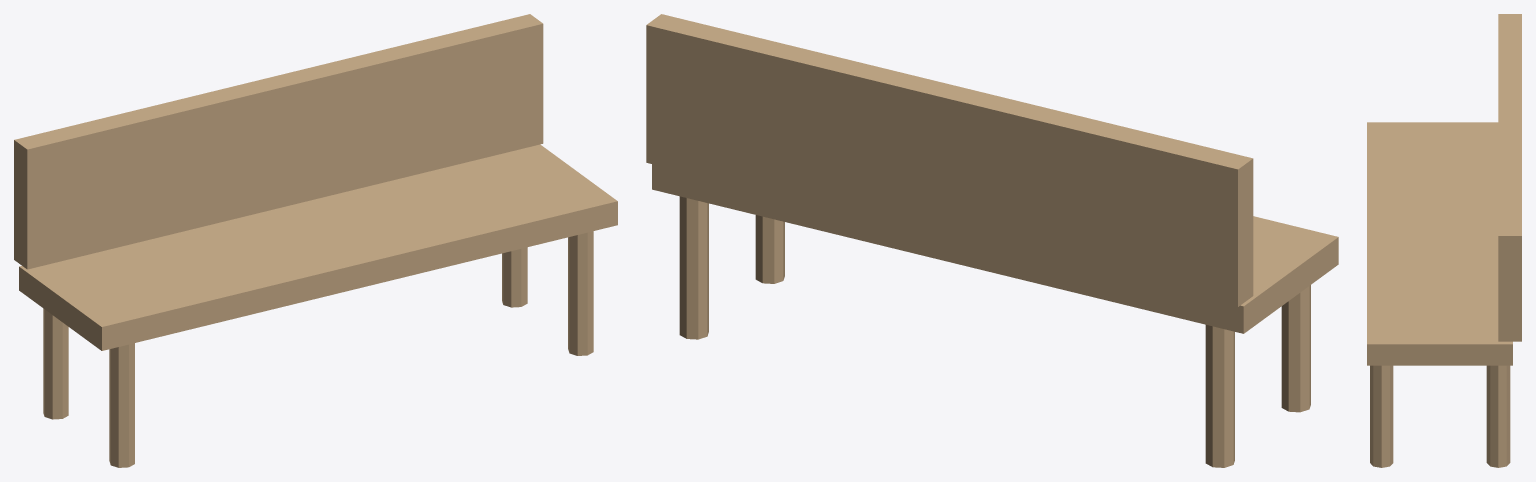
Rendered from bench.glb.
3 views of the same model, side by side, from view 1: azimuth 30°, elevation 25°; view 2: azimuth 150°, elevation 25°; view 3: azimuth 270°, elevation 25° (orthographic). The views are drawn at different scales.
Visible parts, largest first — view 1: p_bench; view 2: p_bench; view 3: p_bench.
Part boxes in pixels (<box>): p_bench: <box>14,14,617,467</box>; p_bench: <box>646,14,1338,467</box>; p_bench: <box>1367,14,1521,467</box>.
Bounding box in the file's own units: 1.8 × 0.905 × 0.53.
